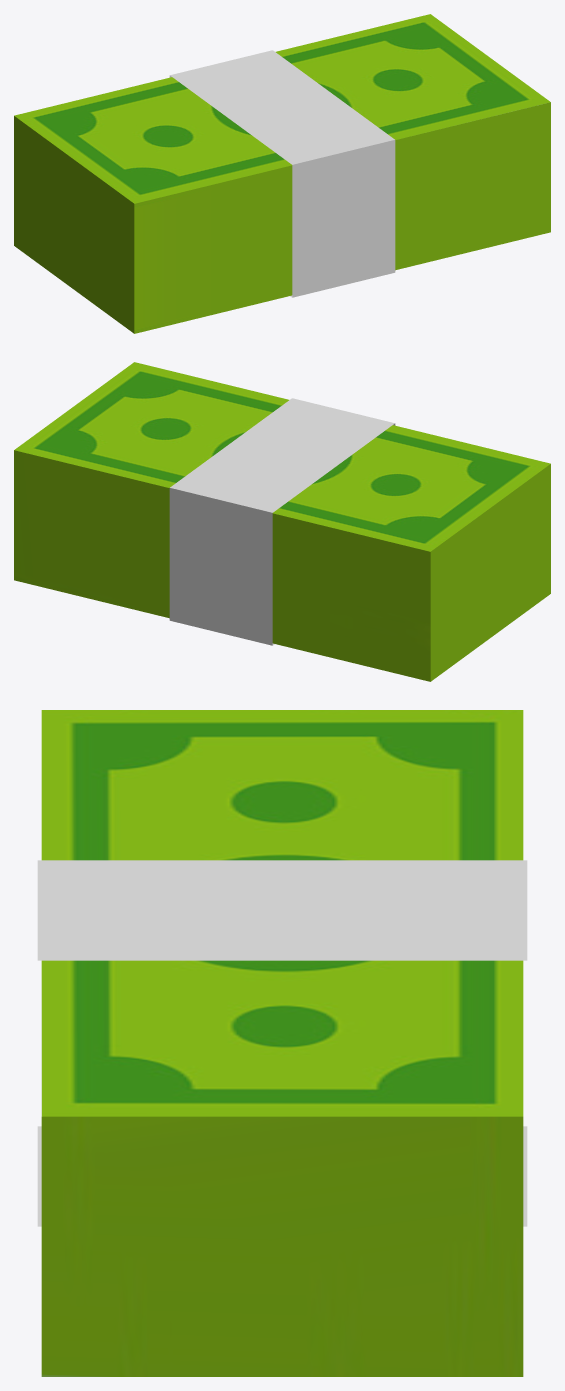
Rendered from MoneyBox.fbx.
3 views of the same model, one above another, from view 1: azimuth 30°, elevation 25°; view 2: azimuth 150°, elevation 25°; view 3: azimuth 270°, elevation 25° (orthographic). The views are drawn at different scales.
Parts seen in each view (by area): view 1: Money; view 2: Money; view 3: Money.
Part boxes in pixels (<box>): Money: <box>14,14,550,333</box>; Money: <box>14,362,550,681</box>; Money: <box>37,710,527,1376</box>.
Size of the model in its own units: 200 by 61 by 102.
